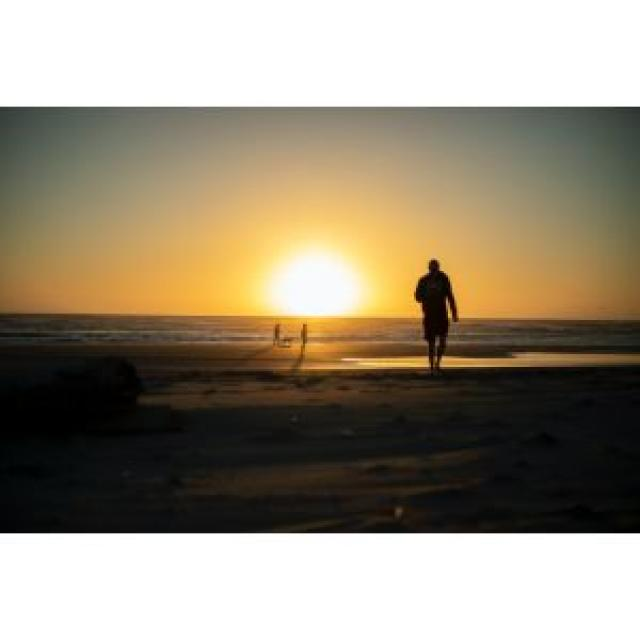nonfall: (409, 256, 456, 384)
